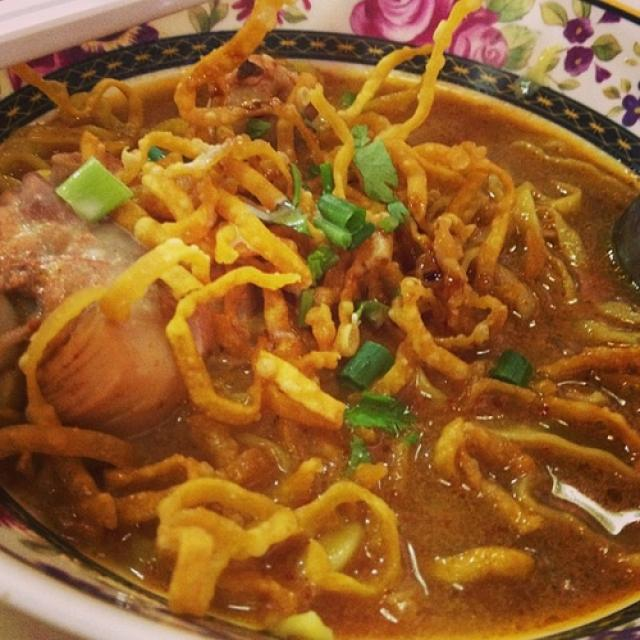面条主食: (9, 25, 634, 620)
